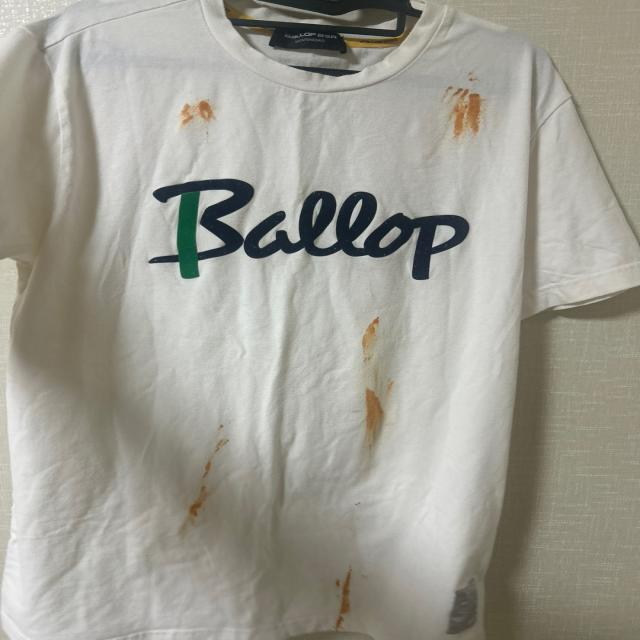stain: (187, 432, 230, 524), (363, 369, 397, 452), (327, 565, 358, 633), (447, 83, 482, 137), (177, 101, 220, 132), (359, 316, 377, 360), (351, 492, 372, 513), (462, 68, 485, 86), (210, 423, 228, 431)
